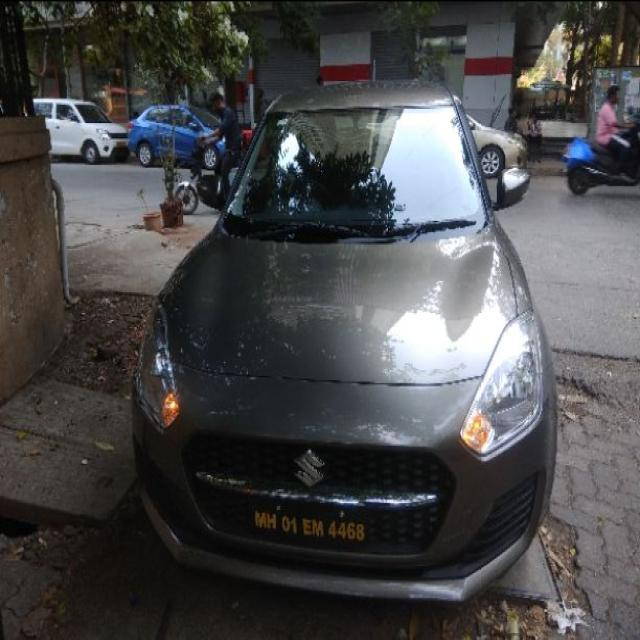license_plate: (131, 77, 558, 605), (250, 506, 368, 543)
